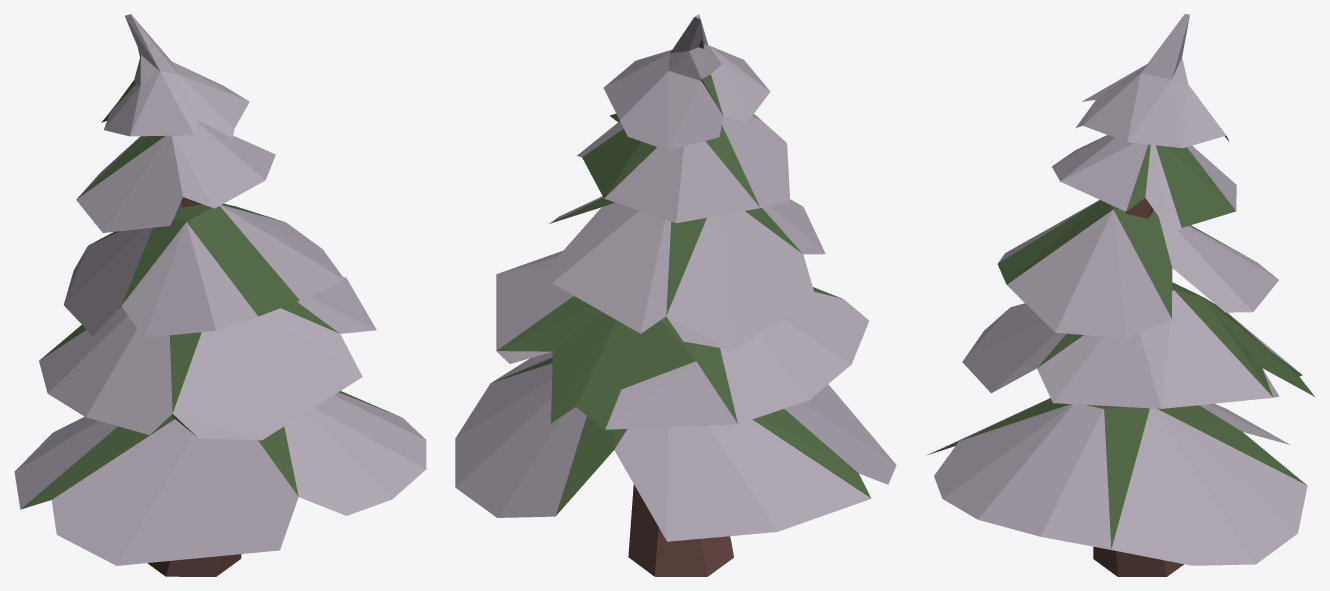
File: pine-tree-show-1.gltf
3 views of the same model, side by side, from view 1: azimuth 30°, elevation 25°; view 2: azimuth 150°, elevation 25°; view 3: azimuth 270°, elevation 25° (orthographic). The views are drawn at different scales.
Parts seen in each view (by area): view 1: PineTree_Snow_1_Cylinder.080; view 2: PineTree_Snow_1_Cylinder.080; view 3: PineTree_Snow_1_Cylinder.080.
Part boxes in pixels (box(x1,y1,x2,y2)): PineTree_Snow_1_Cylinder.080: box(14, 14, 426, 576); PineTree_Snow_1_Cylinder.080: box(455, 14, 896, 576); PineTree_Snow_1_Cylinder.080: box(927, 14, 1314, 576).
Size of the model in its own units: 0.0195 by 0.027 by 0.0181.
